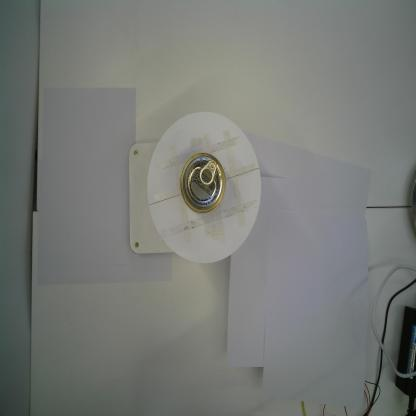Canned Food: (177, 152, 229, 218)
